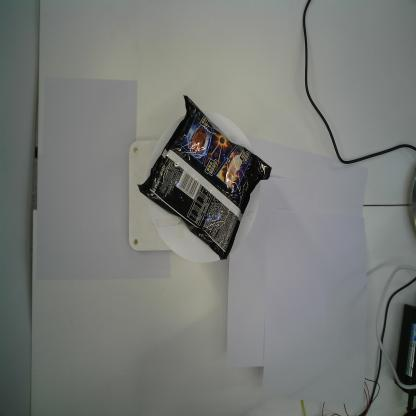Instant Noodles: (135, 93, 274, 263)
